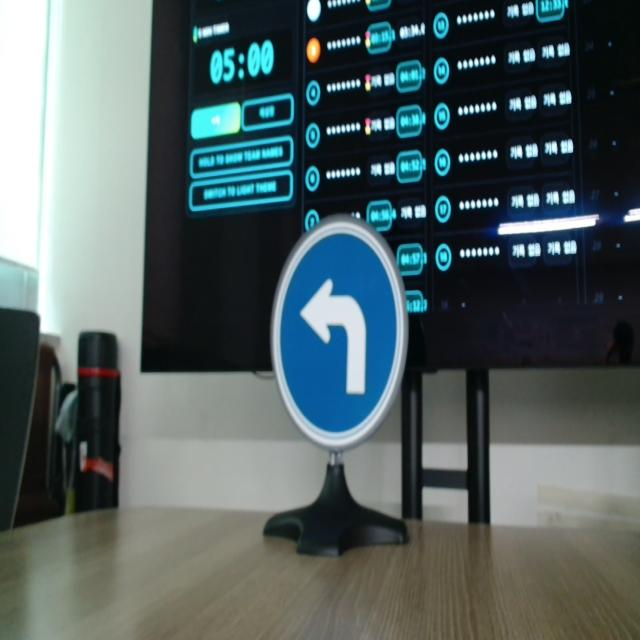left_direction: (270, 214, 409, 453)
